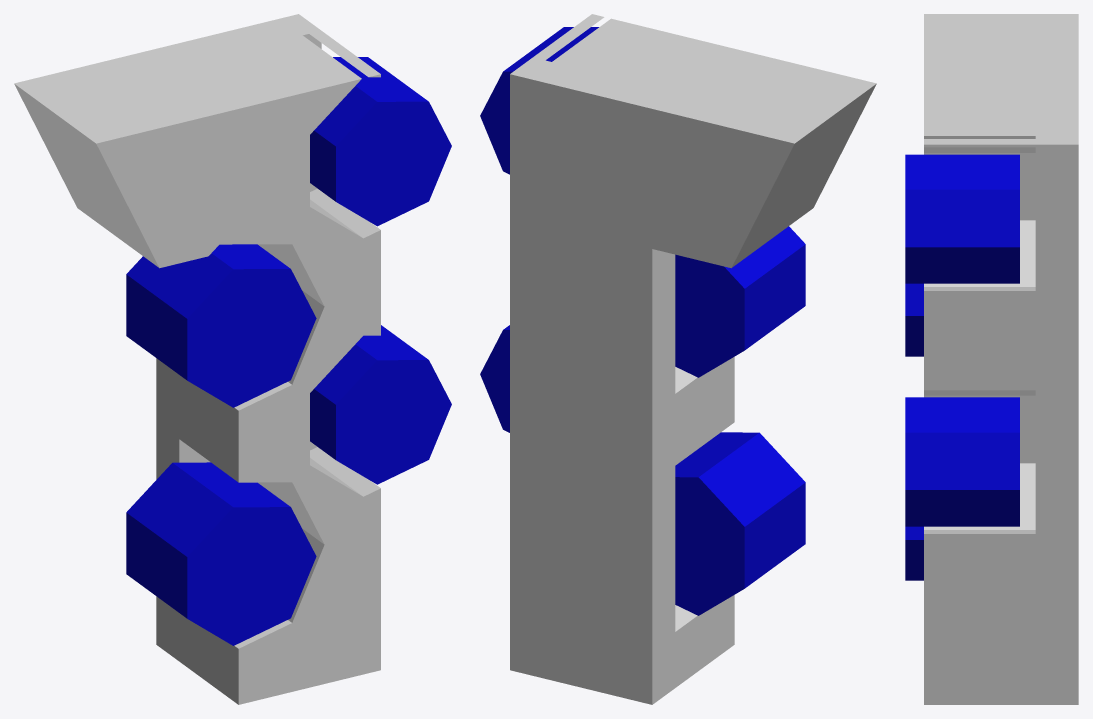
Rendered from Ch_Lite_1_01.fbx.
The picture shows the model from 3 angles, left to right: view 1: azimuth 30°, elevation 25°; view 2: azimuth 150°, elevation 25°; view 3: azimuth 270°, elevation 25°; orthographic projection. The views are drawn at different scales.
Visible parts, largest first — view 1: sphere1; view 2: sphere1; view 3: sphere1.
Boxes of the visible parts, box(x1,y1,x2,y2) form: sphere1: box(14, 14, 451, 704); sphere1: box(480, 14, 876, 704); sphere1: box(905, 14, 1078, 704).
Bounding box in the file's own units: 0.4857 × 0.8 × 0.2242.
